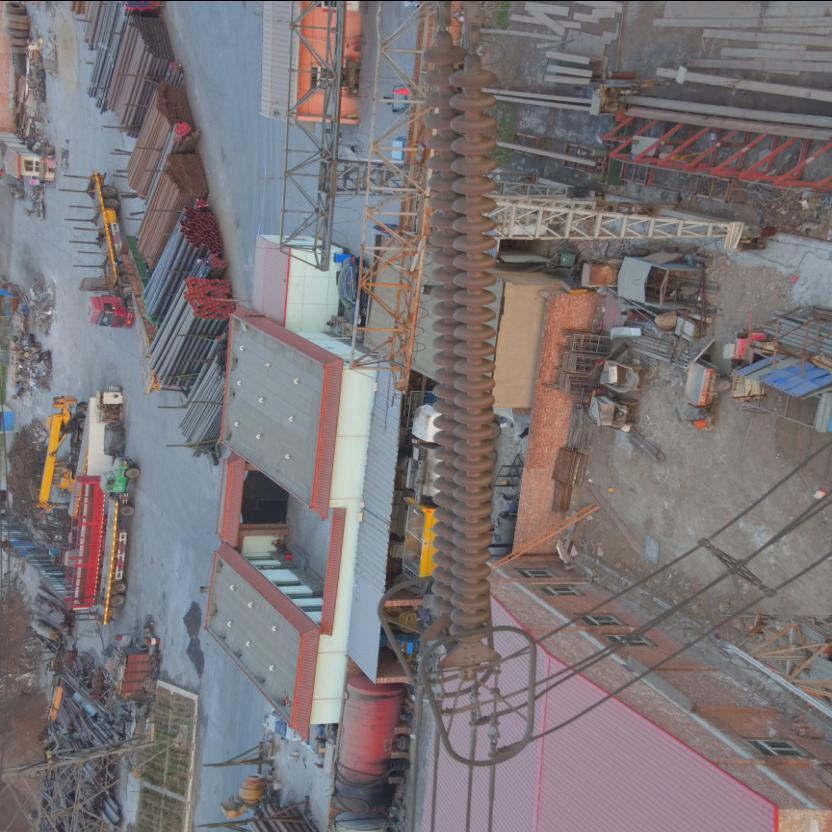insulator: (416, 1, 499, 655)
